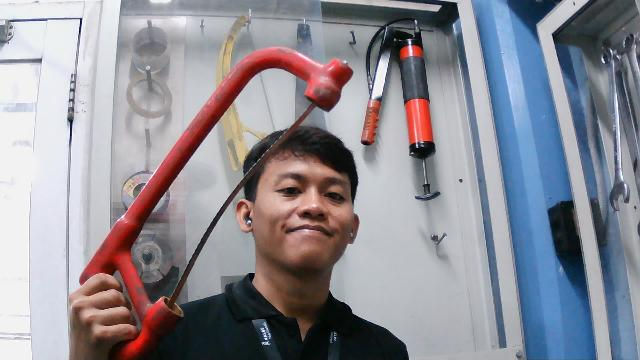gergaji_besi: (69, 45, 356, 360)
